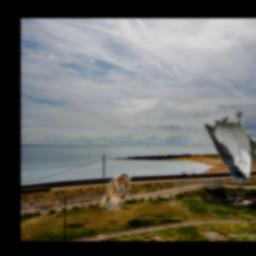Sparrow: (99, 174, 130, 212)
Swallow: (204, 110, 256, 183)
